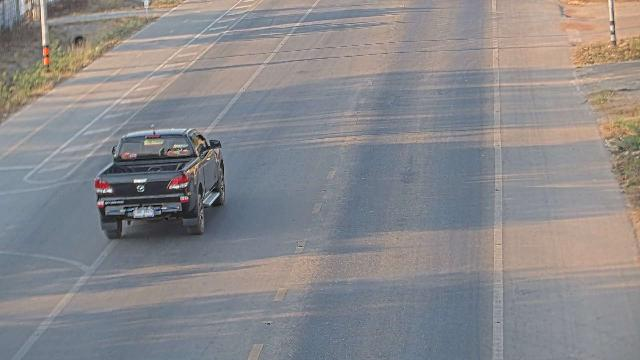pickup-truck: (94, 124, 226, 239)
